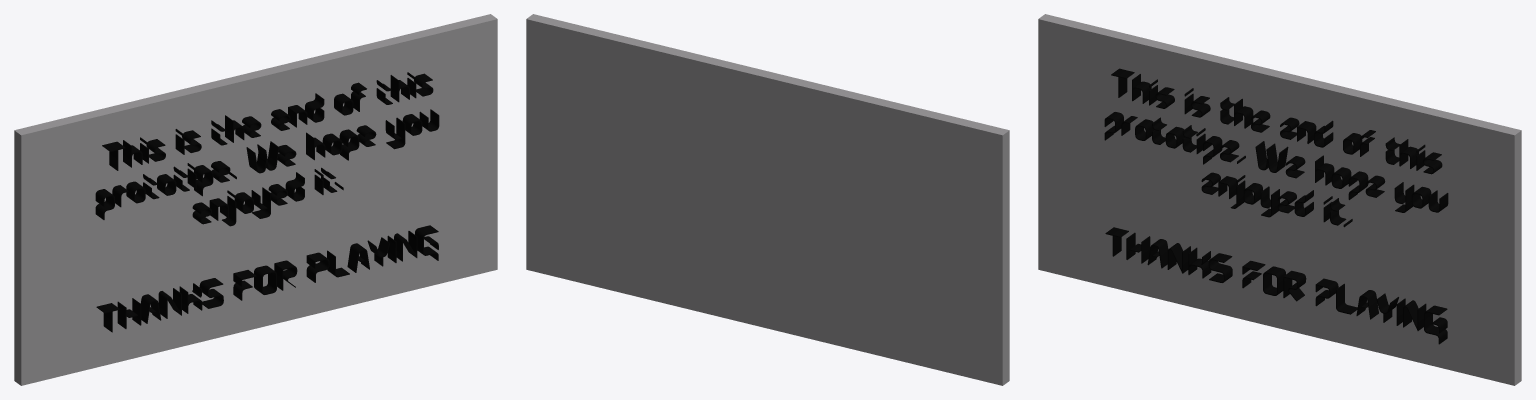
The model's file is Cartel_END.fbx.
The picture shows the model from 3 angles, left to right: view 1: azimuth 30°, elevation 25°; view 2: azimuth 150°, elevation 25°; view 3: azimuth 330°, elevation 25°; orthographic projection.
Visible parts, largest first — view 1: root, node_id181 (×4); view 2: root; view 3: root, node_id181 (×4).
Part boxes in pixels (x1,y1,x2,y2): root: (14, 14, 497, 385); node_id181 (×4): (95, 72, 439, 332); root: (526, 14, 1009, 385); root: (1038, 14, 1521, 385); node_id181 (×4): (1104, 68, 1448, 344).
Bounding box in the file's own units: 0.511 × 0.2568 × 0.0279.
5 materials, 1 textured.
